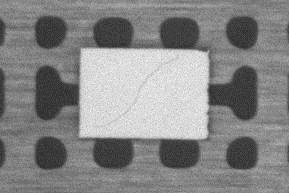DIE_CRACK: (93, 55, 180, 128)
